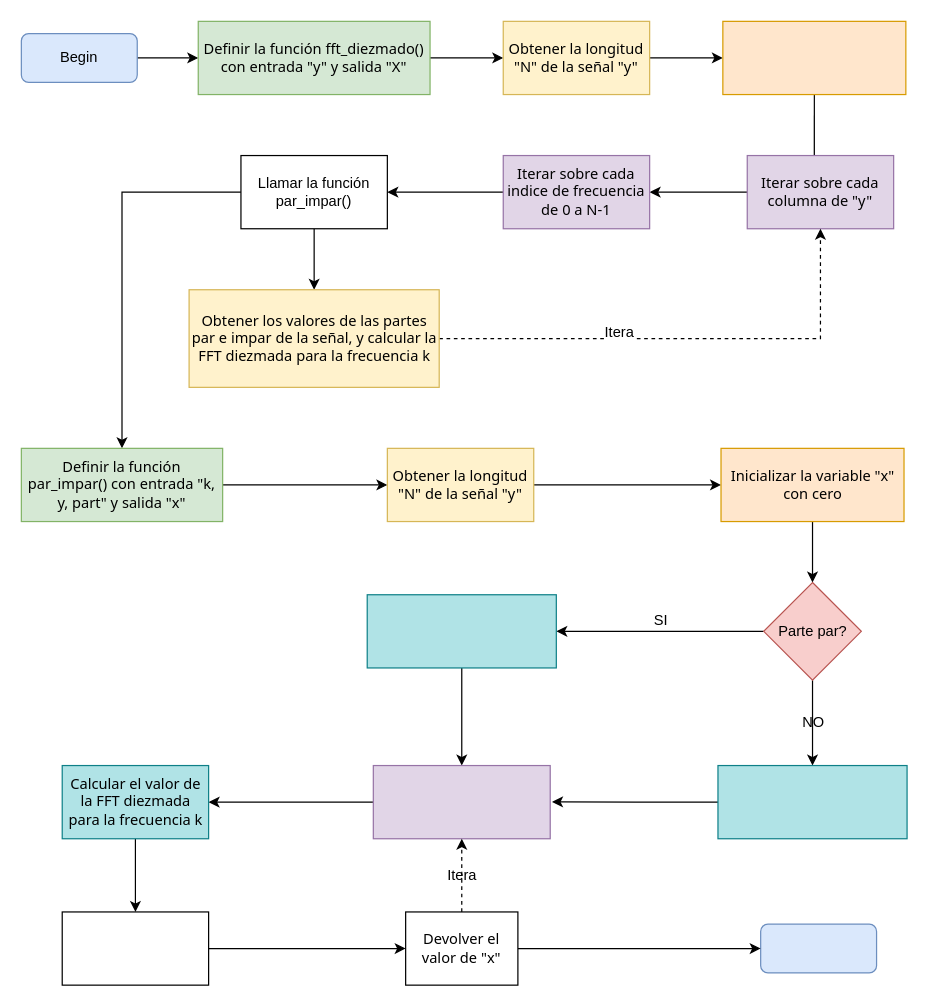
Some shapes in this 928 by 1007 pixel diagram are drawn without their labels. The shapes that lost their labels are listed below. From the top down, each one's centre as x and y in pixels, then its label:
[814,57]: Inicializar la matriz "X" de tamaño 1xN con ceros
[461,631]: Calcular los índices de muestreo y los valores de la señal de la parte par
[461,801]: Iterar sobre cada índice de muestreo de la parte par o impar
[812,801]: Calcular los índices de muestreo y los valores de la señal de la parte impar
[135,948]: Sumar este valor a la variable "x"
[818,948]: End
